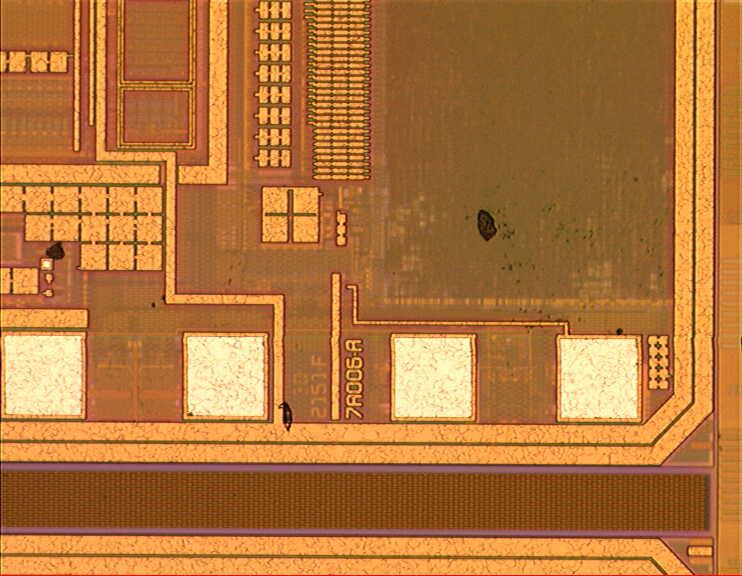PO CONTAMINATION: (42, 202, 672, 438)
